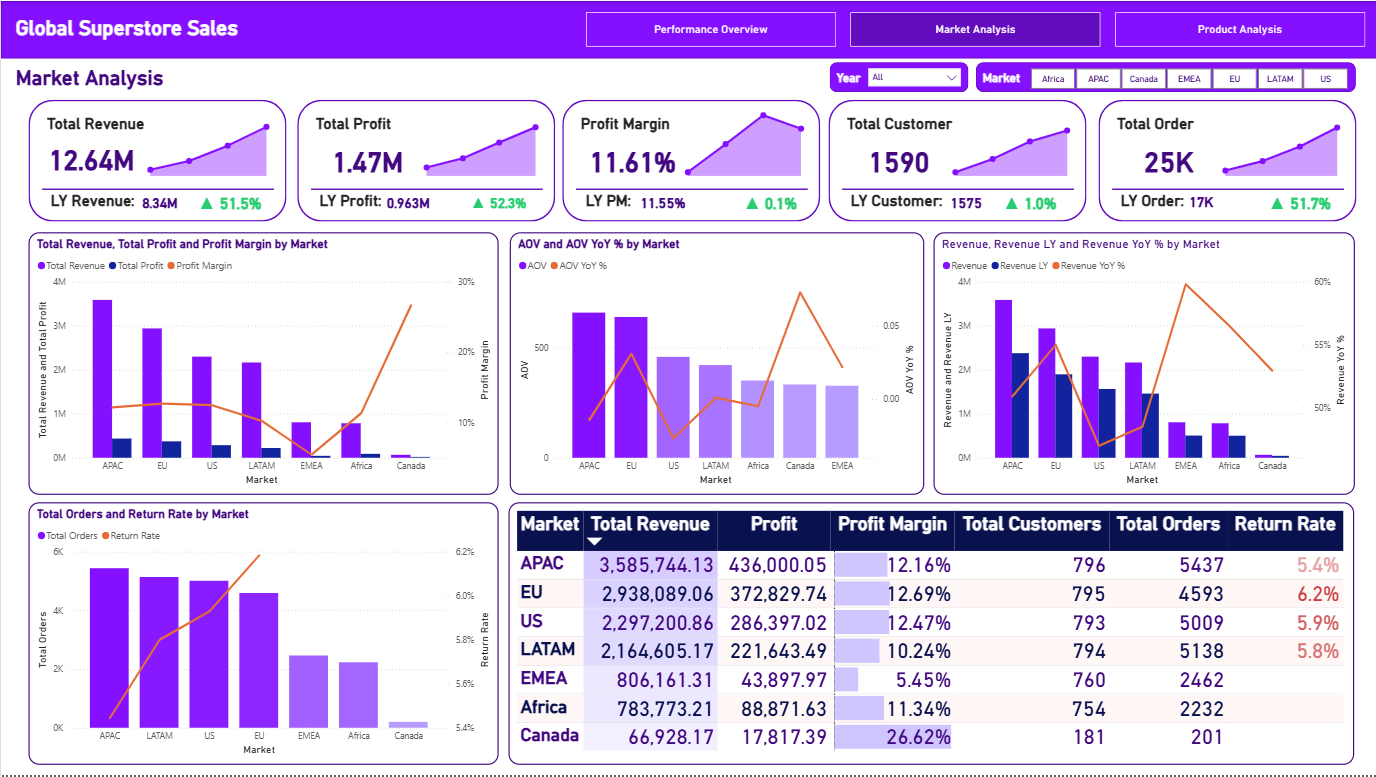

What the dashboard file says about the page in this screenshot:
{"tool":"powerbi","page":{"name":"Market Analysis","canvas":[1920,1080],"ordinal":1},"visuals":[{"type":"group","id":"g1","title":"Navigate Bar","box":[0,0,1920,80],"z":0,"group":"g7"},{"type":"shape","box":[0,0,1920,80],"z":0,"group":"g1"},{"type":"shape","box":[1155,85.2,193.3,41.7],"z":0,"group":"g9"},{"type":"textbox","box":[1357,92.8,78,32],"z":0,"group":"g3"},{"type":"group","id":"g2","title":"Revenue Key","box":[37.6,137.7,360,233.3],"z":0,"group":"g10"},{"type":"card","title":"Sales","fields":{"Values":["Measure.Total Revenue"]},"box":[45.9,190.6,158.6,56.3],"z":0,"group":"g2"},{"type":"card","title":"Sales","fields":{"Values":["Measure.Total Profit"]},"box":[430.9,194.4,158.3,55],"z":0,"group":"g4"},{"type":"card","title":"Sales","fields":{"Values":["Measure.Profit Margin"]},"box":[800.9,194.4,158.3,55],"z":0,"group":"g8"},{"type":"card","title":"Sales","fields":{"Values":["Measure.Total Customers"]},"box":[1172.9,194.4,158.3,55],"z":0,"group":"g6"},{"type":"card","title":"Sales","fields":{"Values":["Measure.Total Orders"]},"box":[1548.4,194.4,158.3,55],"z":0,"group":"g5"},{"type":"textbox","box":[16,16,336,48],"z":1000,"group":"g1"},{"type":"shape","box":[1360,85.7,530,41.4],"z":1000},{"type":"group","id":"g3","title":"Market Filter","box":[1357,86.8,546,42],"z":1000,"group":"g7"},{"type":"slicer","title":"b","fields":{"Values":["Orders.Market"]},"box":[1411,86.8,492,42],"z":1000,"group":"g3"},{"type":"textbox","box":[1153.9,91.1,56,32],"z":1000,"group":"g9"},{"type":"group","id":"g4","title":"Profit Key","box":[412.6,137.7,360,233.3],"z":1000,"group":"g10"},{"type":"shape","box":[55.9,152.7,323.3,218.3],"z":1000,"group":"g2"},{"type":"shape","box":[430.9,152.7,323.3,218.3],"z":1000,"group":"g4"},{"type":"shape","box":[800.9,152.7,323.3,218.3],"z":1000,"group":"g8"},{"type":"shape","box":[1172.9,152.7,323.3,218.3],"z":1000,"group":"g6"},{"type":"shape","box":[1548.4,152.7,323.3,218.3],"z":1000,"group":"g5"},{"type":"pageNavigator","box":[816,16,1088,48],"z":2000,"group":"g1"},{"type":"slicer","title":"b","fields":{"Values":["Date.Year","Date.Month No"]},"box":[1199.5,83.1,148.9,43.3],"z":2000,"group":"g9"},{"type":"group","id":"g5","title":"Order Key","box":[1530.1,137.7,360,233.3],"z":2000,"group":"g10"},{"type":"lineChart","fields":{"Category":["Date.Year"],"Y":["Measure.Total Revenue"]},"box":[193.6,142,192,108],"z":2000,"group":"g2"},{"type":"lineChart","fields":{"Category":["Date.Year"],"Y":["Measure.Total Profit"]},"box":[578.6,142,182,108],"z":2000,"group":"g4"},{"type":"lineChart","fields":{"Category":["Date.Year"],"Y":["Measure.Profit Margin"]},"box":[942.6,142,188,108],"z":2000,"group":"g8"},{"type":"lineChart","fields":{"Category":["Date.Year"],"Y":["Measure.Total Customers"]},"box":[1316.6,142,186,108],"z":2000,"group":"g6"},{"type":"lineChart","fields":{"Category":["Date.Year"],"Y":["Measure.Total Orders"]},"box":[1693.1,142,186,108],"z":2000,"group":"g5"},{"type":"textbox","box":[16,86,222,56],"z":3000,"group":"g7"},{"type":"group","id":"g6","title":"Customer Key","box":[1154.6,137.7,360,233.3],"z":3000,"group":"g10"},{"type":"textbox","box":[59.3,152.7,170,41.7],"z":3000,"group":"g2"},{"type":"textbox","box":[434.3,152.7,170,41.7],"z":3000,"group":"g4"},{"type":"textbox","box":[804.3,152.7,170,41.7],"z":3000,"group":"g8"},{"type":"textbox","box":[1176.3,152.7,170,41.7],"z":3000,"group":"g6"},{"type":"textbox","box":[1551.8,152.7,170,41.7],"z":3000,"group":"g5"},{"type":"group","id":"g7","title":"Filter & Navigate","box":[0,0,1920,142],"z":4000},{"type":"group","id":"g8","title":"Margin Key","box":[782.6,137.7,360,233.3],"z":4000,"group":"g10"},{"type":"textbox","box":[439.3,261,123.3,61.7],"z":4000,"group":"g4"},{"type":"textbox","box":[1556.8,261,123.3,61.7],"z":4000,"group":"g5"},{"type":"textbox","box":[63.6,262,136,60],"z":4000,"group":"g2"},{"type":"textbox","box":[810.6,262,150,60],"z":4000,"group":"g8"},{"type":"textbox","box":[1180.6,262,142,60],"z":4000,"group":"g6"},{"type":"card","title":"Sales","fields":{"Values":["Measure.Total Orders LY"]},"box":[1615.1,260.4,116,46],"z":5000,"group":"g5"},{"type":"card","title":"Sales","fields":{"Values":["Measure.Profit LY"]},"box":[510.9,261,115,46.7],"z":5000,"group":"g4"},{"type":"card","title":"Sales","fields":{"Values":["Measure.Revenue LY"]},"box":[163.6,262,116,46],"z":5000,"group":"g2"},{"type":"card","title":"Sales","fields":{"Values":["Measure.Customers LY"]},"box":[1288.6,262,116,46],"z":5000,"group":"g6"},{"type":"card","title":"Sales","fields":{"Values":["Measure.Profit Margin LY"]},"box":[866.6,262.4,114,46],"z":5000,"group":"g8"},{"type":"lineClusteredColumnComboChart","fields":{"Category":["Orders.Market"],"Y":["Measure.Total Sales","Measure.Total Profit"],"Y2":["Measure.Profit Margin"]},"box":[38,322,656,366],"z":5000},{"type":"group","id":"g9","title":"Year Filter","box":[1153.9,83.1,194.4,43.7],"z":6000},{"type":"card","title":"Sales","fields":{"Values":["Measure.Revenue YOY Display"]},"box":[267.6,261,101.7,46.7],"z":6000,"group":"g2"},{"type":"card","title":"Sales","fields":{"Values":["Measure.Profit YoY Display"]},"box":[642.6,261,101.7,46.7],"z":6000,"group":"g4"},{"type":"card","title":"Sales","fields":{"Values":["Measure.Customers YoY Display"]},"box":[1384.6,261,101.7,46.7],"z":6000,"group":"g6"},{"type":"card","title":"Sales","fields":{"Values":["Measure.Total Orders YoY Display"]},"box":[1760.1,261,101.7,46.7],"z":6000,"group":"g5"},{"type":"card","title":"Sales","fields":{"Values":["Measure.Profit Margin YoY Display"]},"box":[1014.3,261.5,116.9,45.9],"z":6000,"group":"g8"},{"type":"shape","box":[37.6,137.7,360,170],"z":7000,"group":"g2"},{"type":"shape","box":[412.6,137.7,360,170],"z":7000,"group":"g4"},{"type":"shape","box":[782.6,137.7,360,170],"z":7000,"group":"g8"},{"type":"shape","box":[1154.6,137.7,360,170],"z":7000,"group":"g6"},{"type":"shape","box":[1530.1,137.7,360,170],"z":7000,"group":"g5"},{"type":"lineStackedColumnComboChart","fields":{"Category":["Orders.Market"],"Y":["Measure.AOV"],"Y2":["Measure.AOV YoY %"]},"box":[710,322,578,366],"z":7000},{"type":"lineClusteredColumnComboChart","fields":{"Category":["Orders.Market"],"Y2":["Measure.Sales YoY %"],"Y":["Measure.Total Revenue","Measure.Revenue LY"]},"box":[1302,322,588,366],"z":8000},{"type":"pivotTable","fields":{"Values":["Measure.Total Revenue","Measure.Total Profit","Measure.Profit Margin","Measure.Total Customers","Measure.Total Orders","Measure.Return Rate"],"Rows":["Orders.Market"]},"box":[708,700,1180,366],"z":9000},{"type":"group","id":"g10","title":"Key Metric","box":[37.6,137.7,1851.1,233.7],"z":10000},{"type":"lineStackedColumnComboChart","fields":{"Category":["Orders.Market"],"Y":["Measure.Total Orders"],"Y2":["Measure.Return Rate"]},"box":[38,700,656,366],"z":11000}]}

Visuals, with their boxes in screenshot pixels (x1, y1, x2, y2), scaled from the page's 1920x1080 canvas onto the 1376x777 screenshot:
"Navigate Bar" group: <bbox>0, 0, 1375, 58</bbox>
shape: <bbox>0, 0, 1375, 58</bbox>
shape: <bbox>828, 61, 966, 91</bbox>
textbox: <bbox>973, 67, 1028, 90</bbox>
"Revenue Key" group: <bbox>27, 99, 285, 267</bbox>
"Sales" card: <bbox>33, 137, 147, 178</bbox>
"Sales" card: <bbox>309, 140, 422, 179</bbox>
"Sales" card: <bbox>574, 140, 687, 179</bbox>
"Sales" card: <bbox>841, 140, 954, 179</bbox>
"Sales" card: <bbox>1110, 140, 1223, 179</bbox>
textbox: <bbox>11, 12, 252, 46</bbox>
shape: <bbox>975, 62, 1354, 91</bbox>
"Market Filter" group: <bbox>973, 62, 1364, 93</bbox>
"b" slicer: <bbox>1011, 62, 1364, 93</bbox>
textbox: <bbox>827, 66, 867, 89</bbox>
"Profit Key" group: <bbox>296, 99, 554, 267</bbox>
shape: <bbox>40, 110, 272, 267</bbox>
shape: <bbox>309, 110, 541, 267</bbox>
shape: <bbox>574, 110, 806, 267</bbox>
shape: <bbox>841, 110, 1072, 267</bbox>
shape: <bbox>1110, 110, 1341, 267</bbox>
pageNavigator: <bbox>585, 12, 1365, 46</bbox>
"b" slicer: <bbox>860, 60, 966, 91</bbox>
"Order Key" group: <bbox>1097, 99, 1355, 267</bbox>
lineChart - Date.Year x Measure.Total Revenue: <bbox>139, 102, 276, 180</bbox>
lineChart - Date.Year x Measure.Total Profit: <bbox>415, 102, 545, 180</bbox>
lineChart - Date.Year x Measure.Profit Margin: <bbox>676, 102, 810, 180</bbox>
lineChart - Date.Year x Measure.Total Customers: <bbox>944, 102, 1077, 180</bbox>
lineChart - Date.Year x Measure.Total Orders: <bbox>1213, 102, 1347, 180</bbox>
textbox: <bbox>11, 62, 171, 102</bbox>
"Customer Key" group: <bbox>827, 99, 1085, 267</bbox>
textbox: <bbox>42, 110, 164, 140</bbox>
textbox: <bbox>311, 110, 433, 140</bbox>
textbox: <bbox>576, 110, 698, 140</bbox>
textbox: <bbox>843, 110, 965, 140</bbox>
textbox: <bbox>1112, 110, 1234, 140</bbox>
"Filter & Navigate" group: <bbox>0, 0, 1375, 102</bbox>
"Margin Key" group: <bbox>561, 99, 819, 267</bbox>
textbox: <bbox>315, 188, 403, 232</bbox>
textbox: <bbox>1116, 188, 1204, 232</bbox>
textbox: <bbox>46, 188, 143, 232</bbox>
textbox: <bbox>581, 188, 688, 232</bbox>
textbox: <bbox>846, 188, 948, 232</bbox>
"Sales" card: <bbox>1157, 187, 1241, 220</bbox>
"Sales" card: <bbox>366, 188, 449, 221</bbox>
"Sales" card: <bbox>117, 188, 200, 222</bbox>
"Sales" card: <bbox>923, 188, 1007, 222</bbox>
"Sales" card: <bbox>621, 189, 703, 222</bbox>
lineClusteredColumnComboChart - Orders.Market x Measure.Total Sales: <bbox>27, 232, 497, 495</bbox>
"Year Filter" group: <bbox>827, 60, 966, 91</bbox>
"Sales" card: <bbox>192, 188, 265, 221</bbox>
"Sales" card: <bbox>461, 188, 533, 221</bbox>
"Sales" card: <bbox>992, 188, 1065, 221</bbox>
"Sales" card: <bbox>1261, 188, 1334, 221</bbox>
"Sales" card: <bbox>727, 188, 811, 221</bbox>
shape: <bbox>27, 99, 285, 221</bbox>
shape: <bbox>296, 99, 554, 221</bbox>
shape: <bbox>561, 99, 819, 221</bbox>
shape: <bbox>827, 99, 1085, 221</bbox>
shape: <bbox>1097, 99, 1355, 221</bbox>
lineStackedColumnComboChart - Orders.Market x Measure.AOV: <bbox>509, 232, 923, 495</bbox>
lineClusteredColumnComboChart - Orders.Market x Measure.Sales YoY %: <bbox>933, 232, 1354, 495</bbox>
pivotTable - Measure.Total Revenue x Measure.Total Profit: <bbox>507, 504, 1353, 767</bbox>
"Key Metric" group: <bbox>27, 99, 1354, 267</bbox>
lineStackedColumnComboChart - Orders.Market x Measure.Total Orders: <bbox>27, 504, 497, 767</bbox>
